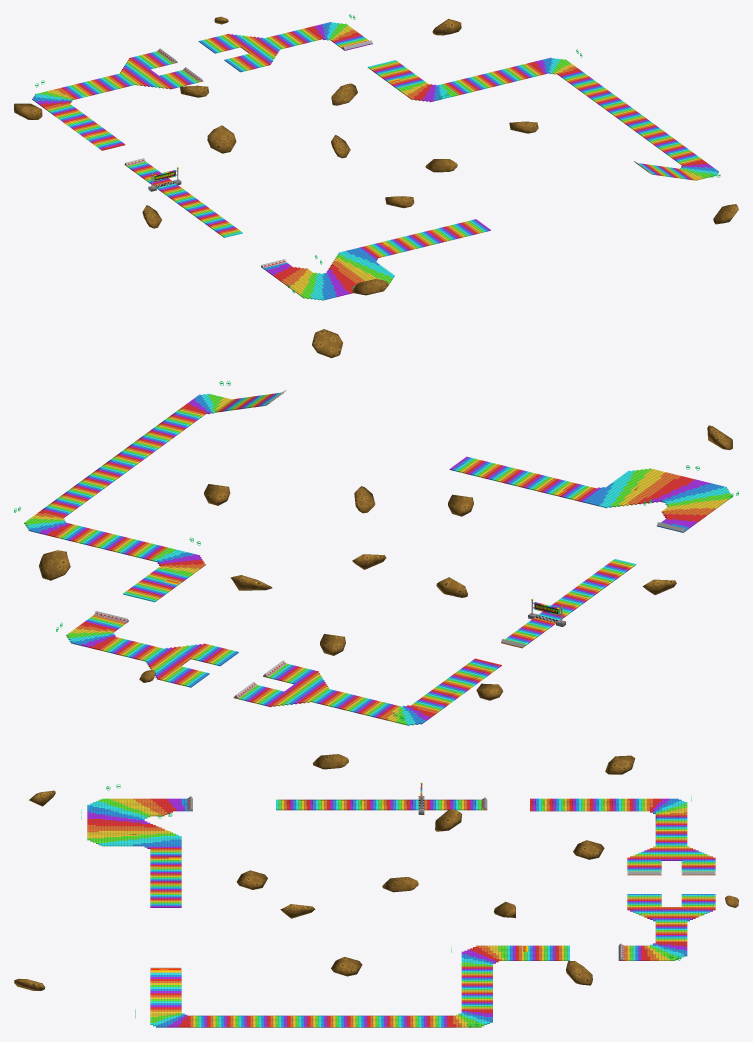
3 renders of one model, top to bottom at view 1: azimuth 30°, elevation 25°; view 2: azimuth 150°, elevation 25°; view 3: azimuth 270°, elevation 25°, orthographic. The views are drawn at different scales.
Visible parts, largest first — view 1: RMX_Rainbow_Road_2_SKP__Asteroid, RMX_Rainbow_Road_2_SKP__rmx_rr_lightblue, RMX_Rainbow_Road_2_SKP__rmx_rr_green, RMX_Rainbow_Road_2_SKP__rmx_rr_blue, RMX_Rainbow_Road_2_SKP__rmx_rr_red, RMX_Rainbow_Road_2_SKP__rmx_rr_purple, RMX_Rainbow_Road_2_SKP__rmx_rr_yellow, RMX_Rainbow_Road_2_SKP__rmx_rr_orange; view 2: RMX_Rainbow_Road_2_SKP__Asteroid, RMX_Rainbow_Road_2_SKP__rmx_rr_lightblue, RMX_Rainbow_Road_2_SKP__rmx_rr_blue, RMX_Rainbow_Road_2_SKP__rmx_rr_green, RMX_Rainbow_Road_2_SKP__rmx_rr_red, RMX_Rainbow_Road_2_SKP__rmx_rr_orange, RMX_Rainbow_Road_2_SKP__rmx_rr_yellow, RMX_Rainbow_Road_2_SKP__rmx_rr_purple; view 3: RMX_Rainbow_Road_2_SKP__rmx_rr_lightblue, RMX_Rainbow_Road_2_SKP__rmx_rr_green, RMX_Rainbow_Road_2_SKP__rmx_rr_blue, RMX_Rainbow_Road_2_SKP__Asteroid, RMX_Rainbow_Road_2_SKP__rmx_rr_orange, RMX_Rainbow_Road_2_SKP__rmx_rr_red, RMX_Rainbow_Road_2_SKP__rmx_rr_yellow, RMX_Rainbow_Road_2_SKP__rmx_rr_purple, RMX_Rainbow_Road_2_SKP__rmx_rr_jump_wall.
Boxes of the visible parts, left/top/right/bottom form: RMX_Rainbow_Road_2_SKP__Asteroid: left=14, top=16, right=738, bottom=295; RMX_Rainbow_Road_2_SKP__rmx_rr_lightblue: left=34, top=22, right=717, bottom=300; RMX_Rainbow_Road_2_SKP__rmx_rr_green: left=37, top=23, right=714, bottom=298; RMX_Rainbow_Road_2_SKP__rmx_rr_blue: left=32, top=22, right=718, bottom=299; RMX_Rainbow_Road_2_SKP__rmx_rr_red: left=40, top=26, right=707, bottom=293; RMX_Rainbow_Road_2_SKP__rmx_rr_purple: left=36, top=24, right=713, bottom=297; RMX_Rainbow_Road_2_SKP__rmx_rr_yellow: left=47, top=25, right=703, bottom=295; RMX_Rainbow_Road_2_SKP__rmx_rr_orange: left=44, top=28, right=702, bottom=287; RMX_Rainbow_Road_2_SKP__Asteroid: left=39, top=329, right=732, bottom=700; RMX_Rainbow_Road_2_SKP__rmx_rr_lightblue: left=26, top=392, right=730, bottom=725; RMX_Rainbow_Road_2_SKP__rmx_rr_blue: left=28, top=393, right=723, bottom=724; RMX_Rainbow_Road_2_SKP__rmx_rr_green: left=24, top=394, right=732, bottom=725; RMX_Rainbow_Road_2_SKP__rmx_rr_red: left=38, top=393, right=706, bottom=718; RMX_Rainbow_Road_2_SKP__rmx_rr_orange: left=35, top=394, right=715, bottom=720; RMX_Rainbow_Road_2_SKP__rmx_rr_yellow: left=30, top=394, right=727, bottom=722; RMX_Rainbow_Road_2_SKP__rmx_rr_purple: left=39, top=393, right=710, bottom=720; RMX_Rainbow_Road_2_SKP__rmx_rr_lightblue: left=87, top=790, right=715, bottom=1027; RMX_Rainbow_Road_2_SKP__rmx_rr_green: left=87, top=791, right=715, bottom=1027; RMX_Rainbow_Road_2_SKP__rmx_rr_blue: left=87, top=789, right=715, bottom=1027; RMX_Rainbow_Road_2_SKP__Asteroid: left=14, top=754, right=738, bottom=990; RMX_Rainbow_Road_2_SKP__rmx_rr_orange: left=87, top=793, right=715, bottom=1027; RMX_Rainbow_Road_2_SKP__rmx_rr_red: left=87, top=787, right=715, bottom=1027; RMX_Rainbow_Road_2_SKP__rmx_rr_yellow: left=87, top=786, right=715, bottom=1027; RMX_Rainbow_Road_2_SKP__rmx_rr_purple: left=87, top=788, right=715, bottom=1027; RMX_Rainbow_Road_2_SKP__rmx_rr_jump_wall: left=169, top=796, right=715, bottom=960.
Bounding box in the file's own units: 64897 × 4030 × 76149.
53 materials, 52 textured.
